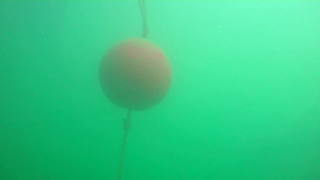bubble: (217, 25, 223, 30), (172, 56, 176, 60), (219, 37, 223, 41), (198, 52, 202, 55), (224, 46, 228, 49), (253, 44, 256, 47)
buoy: (97, 38, 171, 111)
